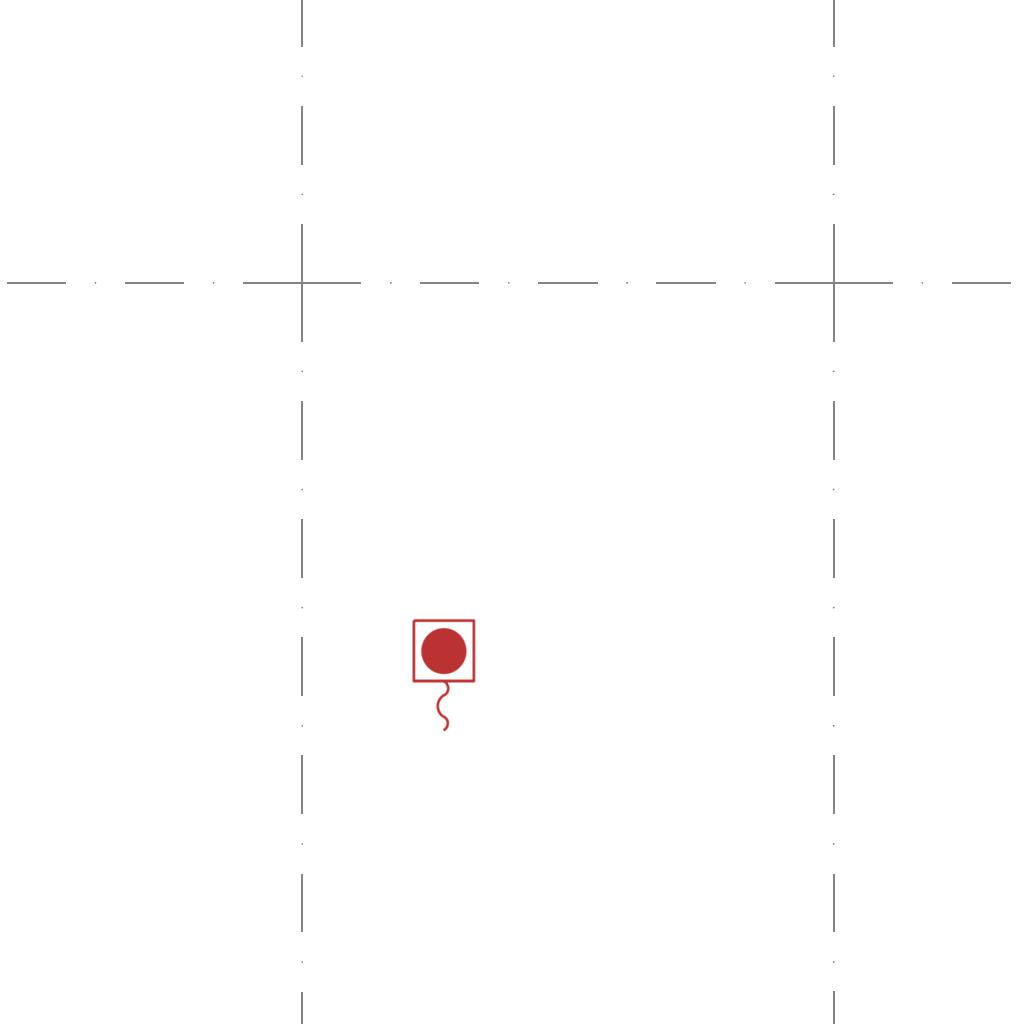Zugtaster: (407, 615, 479, 737)
